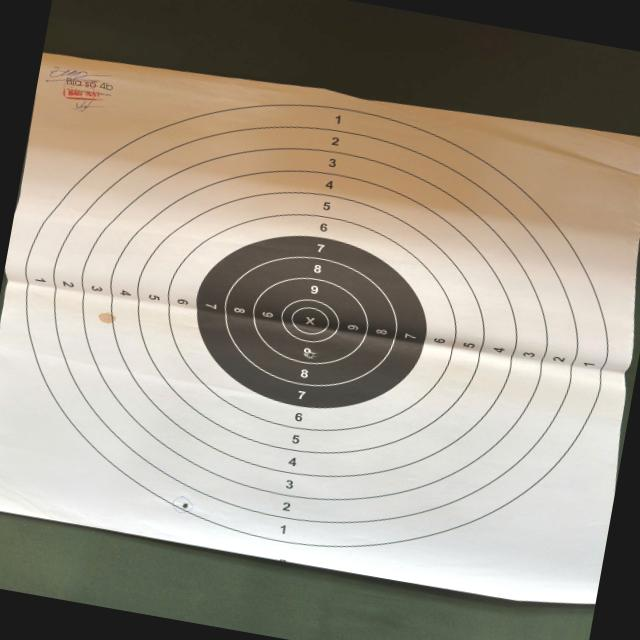bullet: (306, 350, 317, 358), (182, 503, 189, 508)
target: (0, 52, 640, 606)
